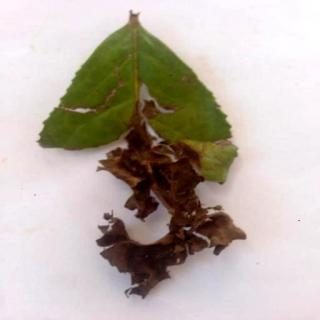Brown Blight: (37, 11, 247, 295)
